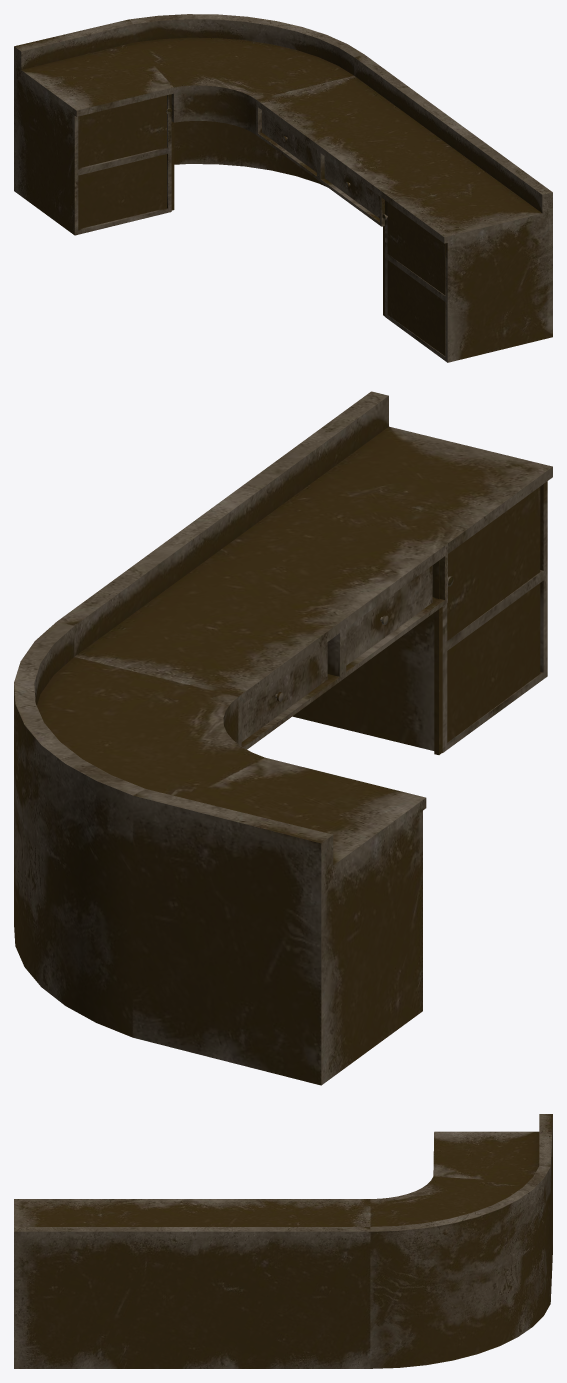
The model's file is receptionDesk.fbx.
3 renders of one model, top to bottom at view 1: azimuth 30°, elevation 25°; view 2: azimuth 150°, elevation 25°; view 3: azimuth 270°, elevation 25°, orthographic. The views are drawn at different scales.
Parts seen in each view (by area): view 1: polySurface15, polySurface10_001, polySurface17_001, polySurface12, polySurface11; view 2: polySurface15, polySurface17_001, polySurface12, polySurface11; view 3: polySurface15.
Part boxes in pixels (<box>): polySurface15: <box>14,14,552,362</box>; polySurface10_001: <box>78,95,174,229</box>; polySurface17_001: <box>383,202,445,355</box>; polySurface12: <box>324,156,379,218</box>; polySurface11: <box>262,110,316,172</box>; polySurface15: <box>14,391,552,1085</box>; polySurface17_001: <box>434,487,540,754</box>; polySurface12: <box>346,565,432,665</box>; polySurface11: <box>241,642,327,741</box>; polySurface15: <box>14,1114,552,1368</box>.
Size of the model in its own units: 190 by 103 by 367.
